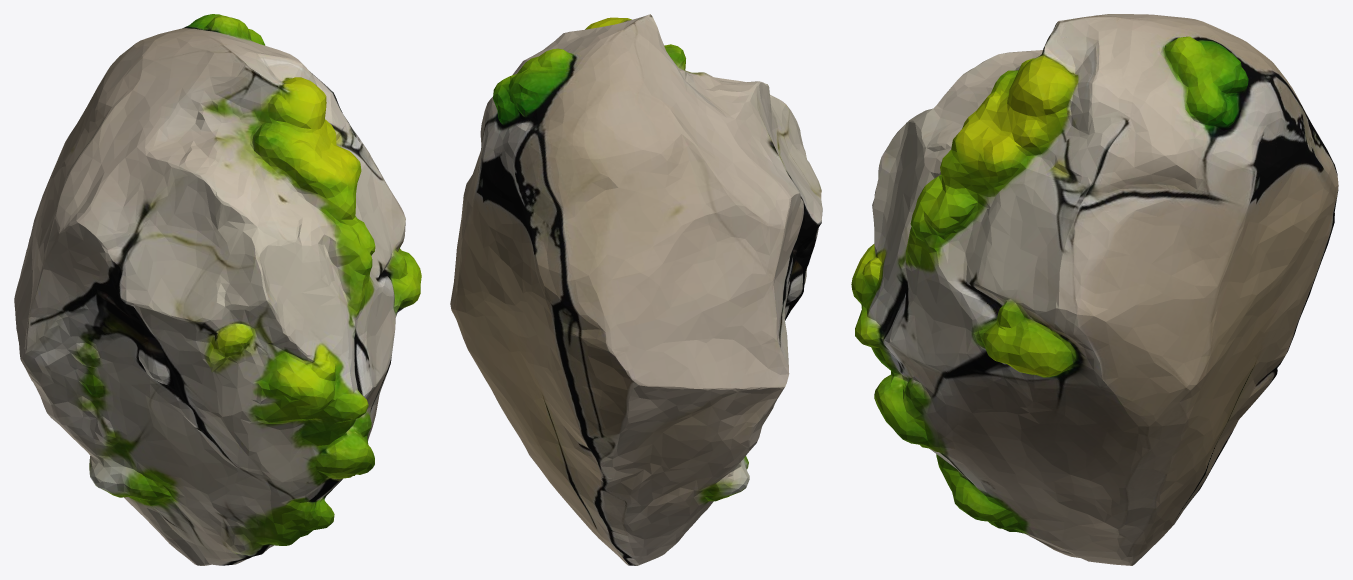
File: boulder.glb
3 renders of one model, left to right at view 1: azimuth 30°, elevation 25°; view 2: azimuth 150°, elevation 25°; view 3: azimuth 270°, elevation 25°, orthographic. The views are drawn at different scales.
Parts seen in each view (by area): view 1: tmpked5wgn7.ply; view 2: tmpked5wgn7.ply; view 3: tmpked5wgn7.ply.
Boxes of the visible parts, x1,y1,x2,y2 form: tmpked5wgn7.ply: (14, 14, 421, 565); tmpked5wgn7.ply: (450, 14, 822, 565); tmpked5wgn7.ply: (851, 14, 1338, 565).
Size of the model in its own units: 1.4 by 1.99 by 1.58.
1 material, 1 textured.
